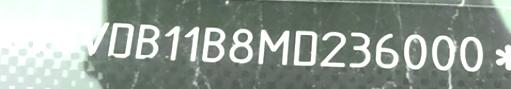letter: (256, 27, 291, 66), (107, 20, 134, 61), (55, 16, 82, 55), (82, 19, 109, 58), (228, 26, 255, 65), (134, 23, 162, 60), (318, 31, 346, 68), (200, 26, 226, 65), (374, 30, 400, 69), (402, 33, 428, 72), (292, 29, 319, 66), (430, 34, 455, 73), (457, 35, 483, 72), (30, 14, 52, 55), (348, 31, 372, 68), (164, 23, 184, 62), (184, 24, 200, 61)
